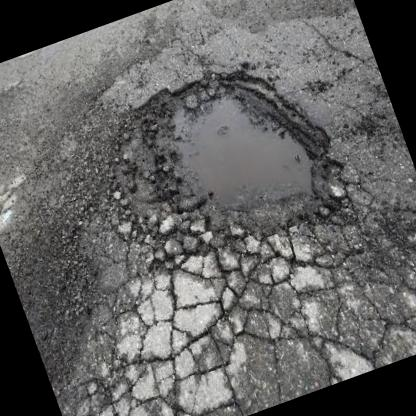pothole: (80, 34, 362, 294)
